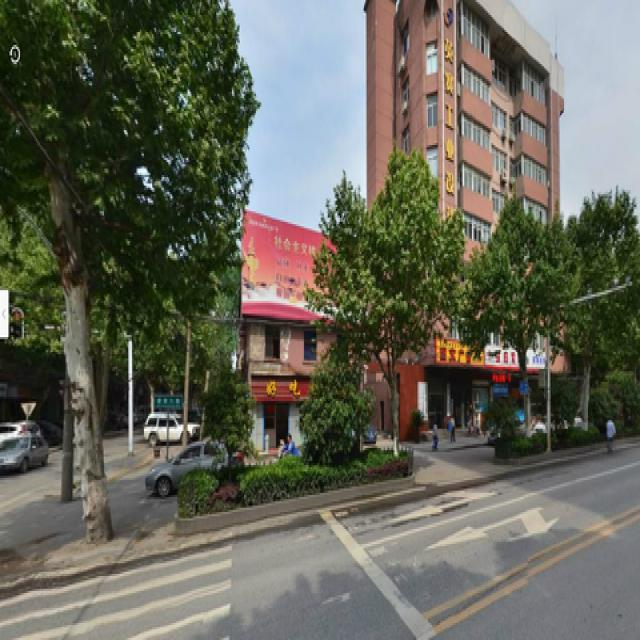meta: (328, 179, 463, 448)
